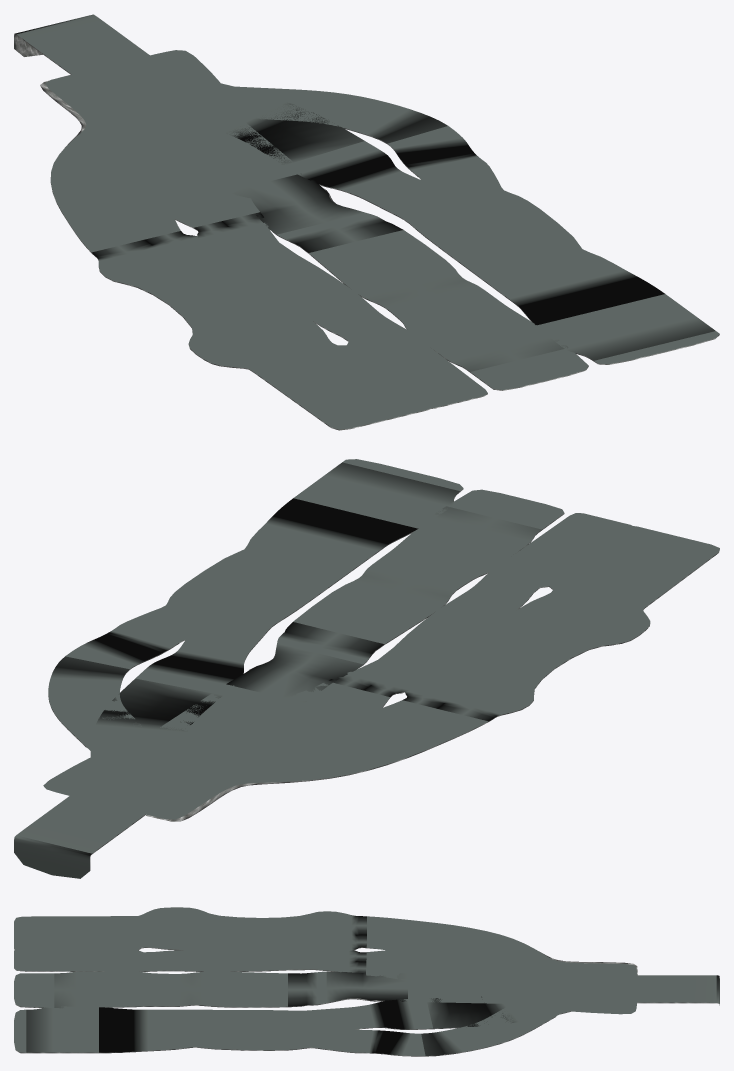
Rendered from special_vitae_station_pool.dae.
3 renders of one model, top to bottom at view 1: azimuth 30°, elevation 25°; view 2: azimuth 150°, elevation 25°; view 3: azimuth 270°, elevation 25°, orthographic. The views are drawn at different scales.
Visible parts, largest first — view 1: gunk__2_, stream__2_; view 2: gunk__2_, stream__2_; view 3: gunk__2_, stream__2_.
Boxes of the visible parts, x1=… form: gunk__2_: x1=14, y1=14, x2=719, y2=429; stream__2_: x1=14, y1=34, x2=719, y2=430; gunk__2_: x1=14, y1=459, x2=719, y2=878; stream__2_: x1=48, y1=489, x2=719, y2=870; gunk__2_: x1=14, y1=907, x2=719, y2=1055; stream__2_: x1=14, y1=947, x2=719, y2=1056.
Size of the model in its own units: 15.42 by 1.06 by 30.93.
